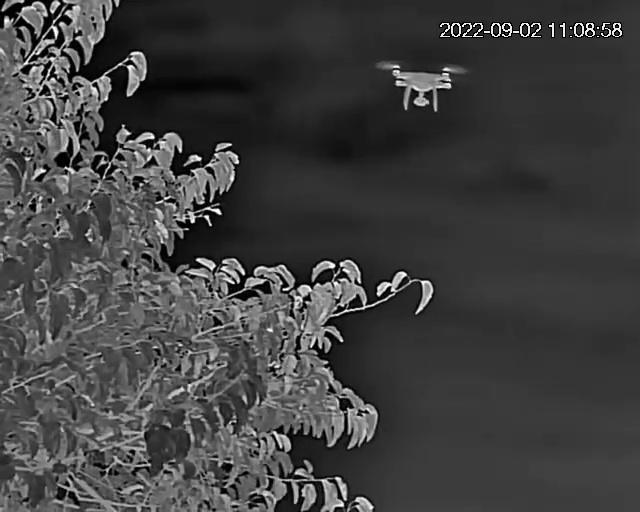DJI-Phantom: (381, 61, 465, 114)
